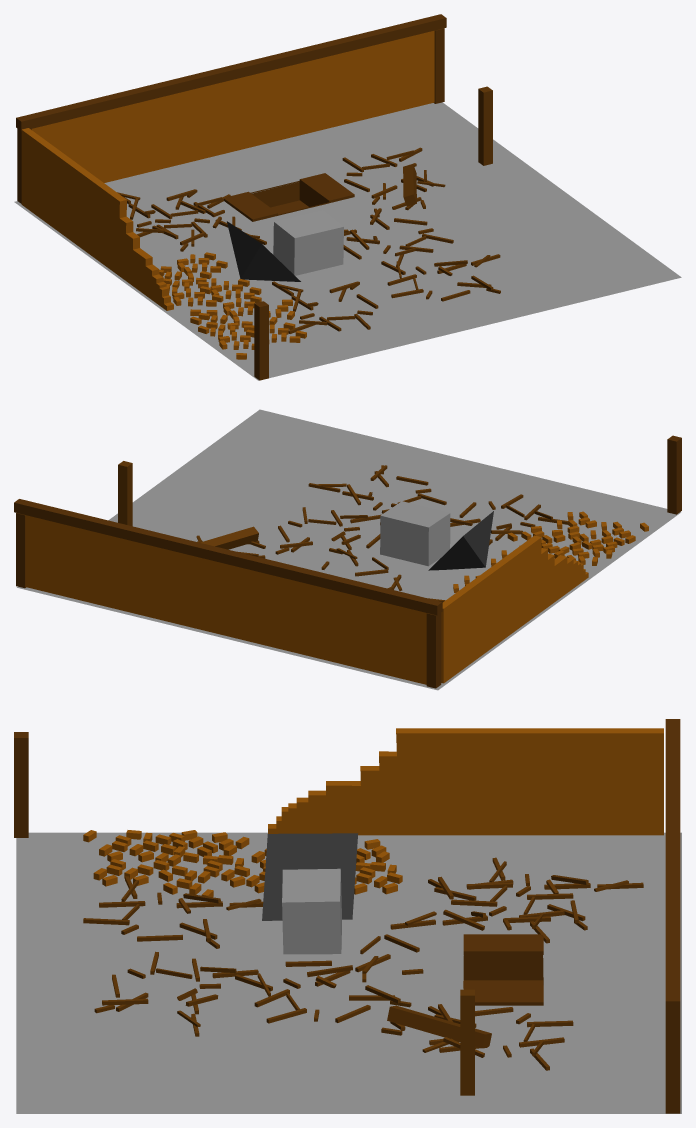
Rendered from SecretLibrary.fbx.
3 views of the same model, one above another, from view 1: azimuth 30°, elevation 25°; view 2: azimuth 150°, elevation 25°; view 3: azimuth 270°, elevation 25° (orthographic). The views are drawn at different scales.
Parts seen in each view (by area): view 1: Plane.002; view 2: Plane.002; view 3: Plane.002.
Part boxes in pixels (x1,y1,x2,y2): Plane.002: (14,14,681,380); Plane.002: (14,409,681,690); Plane.002: (14,719,681,1113).
Bounding box in the file's own units: 1674 × 455 × 1668.
